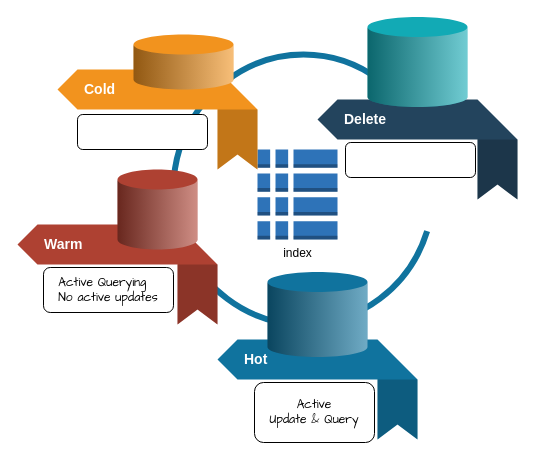
Image size: 534x460. Some labels were removed from this diagram. Here are the shapes that lost their labels. From the top down, the centre of each, then its label:
pixel 142 132: Infrequent Querying No updates
pixel 410 160: Safe to delete
